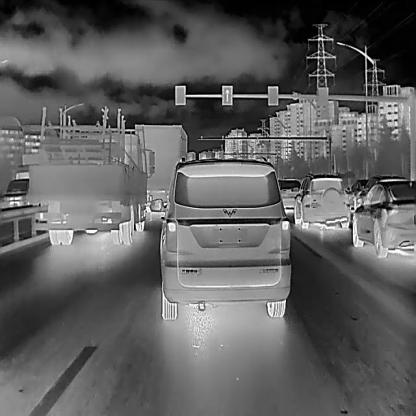car: (149, 156, 290, 321), (350, 177, 416, 257), (292, 172, 349, 228), (276, 177, 301, 215), (2, 176, 31, 206), (345, 176, 369, 206)
truck: (28, 122, 155, 244), (134, 122, 188, 212)
